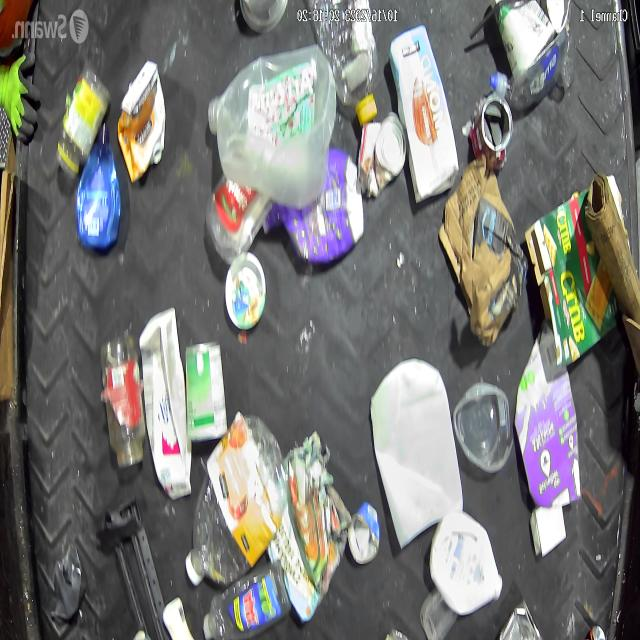can: (364, 104, 414, 217), (344, 485, 385, 577)
non_white_jug: (206, 45, 332, 213), (514, 322, 580, 510), (117, 59, 166, 180)
plastic_bottle: (187, 404, 291, 586), (311, 0, 381, 124), (205, 564, 286, 640)
